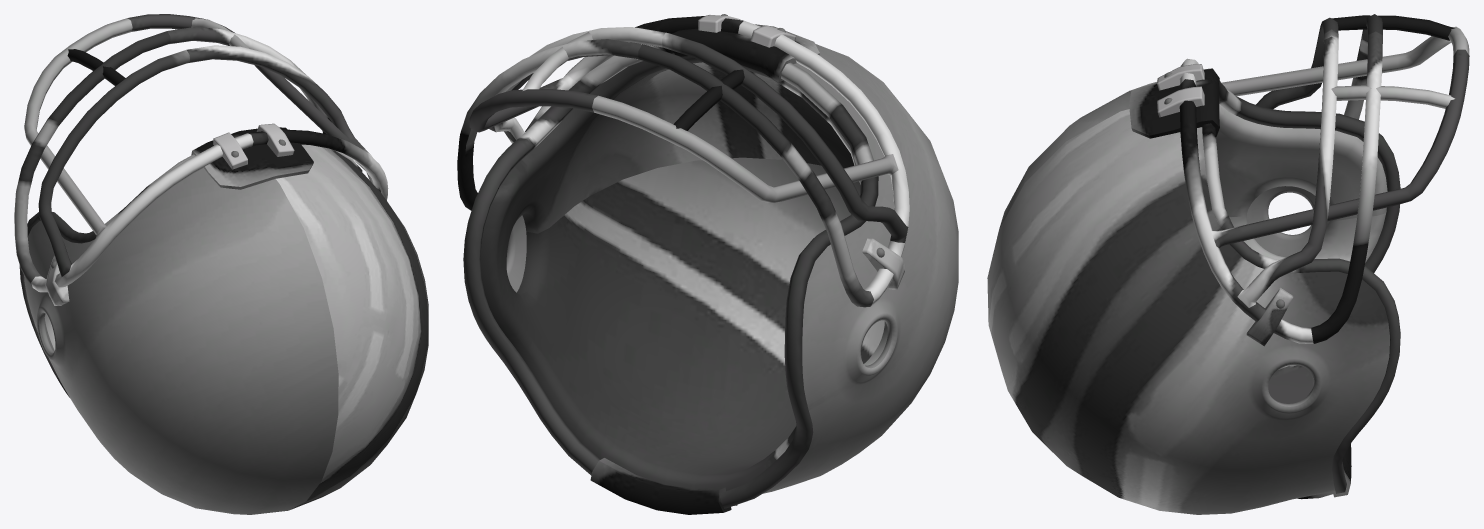
Rendered from Headwear14.glb.
The picture shows the model from 3 angles, left to right: view 1: azimuth 30°, elevation 25°; view 2: azimuth 150°, elevation 25°; view 3: azimuth 270°, elevation 25°; orthographic projection. The views are drawn at different scales.
Visible parts, largest first — view 1: Headwear14; view 2: Headwear14; view 3: Headwear14.
Boxes of the visible parts, x1,y1,x2,y2 form: Headwear14: (14, 14, 428, 514); Headwear14: (457, 14, 958, 514); Headwear14: (987, 14, 1469, 514).
Bounding box in the file's own units: 2.11 × 2.5 × 2.36.
Materials: 1 (1 with a texture image).
